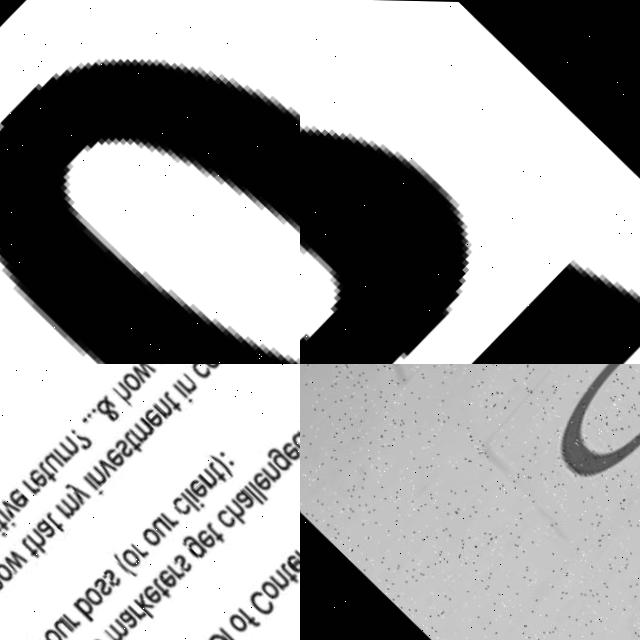0: (0, 0, 300, 364), (506, 364, 640, 523)
5: (300, 0, 640, 364)
A: (114, 604, 141, 630), (232, 484, 257, 510), (33, 515, 57, 539)
B: (72, 593, 100, 621)
C: (246, 585, 276, 616), (213, 504, 237, 529), (169, 492, 192, 516), (188, 364, 212, 378)
D: (288, 426, 300, 456)
E: (6, 485, 31, 510), (185, 474, 209, 499), (102, 444, 127, 468), (142, 404, 166, 429), (26, 464, 50, 489), (194, 526, 218, 550), (140, 580, 163, 604), (155, 564, 178, 588), (250, 467, 273, 491), (279, 436, 300, 461), (283, 549, 300, 574)
F: (234, 602, 262, 629)
G: (264, 442, 292, 471), (181, 532, 209, 559)
H: (224, 495, 252, 524), (24, 527, 53, 555), (111, 379, 139, 407)
I: (80, 472, 104, 496), (171, 380, 195, 403), (183, 484, 206, 506), (0, 504, 16, 527), (217, 624, 239, 640), (0, 514, 7, 537)
K: (131, 591, 160, 619)
L: (246, 480, 268, 500), (243, 482, 264, 502), (180, 490, 201, 510)
M: (128, 415, 156, 444), (55, 491, 82, 519), (102, 617, 129, 640)
N: (267, 565, 291, 589), (151, 394, 175, 418), (175, 369, 198, 393), (260, 459, 283, 482), (197, 465, 220, 488), (85, 463, 108, 486), (58, 434, 80, 456), (292, 540, 300, 563)
O: (139, 523, 164, 548), (225, 608, 250, 632), (257, 575, 282, 599), (80, 583, 104, 608), (118, 543, 142, 568), (120, 369, 143, 393), (203, 627, 234, 640), (40, 625, 63, 640), (0, 559, 14, 583), (197, 364, 222, 369)
R: (59, 608, 81, 628), (126, 600, 147, 620), (129, 537, 149, 557), (21, 475, 41, 494), (166, 560, 185, 579), (160, 508, 179, 527), (52, 444, 71, 462)
S: (98, 565, 123, 590), (111, 434, 136, 459), (170, 549, 193, 573), (91, 573, 114, 597), (88, 635, 111, 640)
T: (205, 458, 229, 482), (203, 520, 226, 543), (120, 429, 143, 452), (277, 559, 300, 581), (18, 537, 41, 559), (35, 460, 58, 482), (151, 576, 172, 597), (44, 511, 65, 532), (162, 389, 183, 410), (0, 509, 10, 531)
U: (148, 512, 173, 537), (50, 615, 73, 638), (42, 450, 65, 473)
V: (93, 454, 117, 478), (0, 495, 21, 518)
W: (0, 545, 27, 574), (129, 364, 157, 382)
Y: (63, 476, 91, 504), (22, 633, 50, 640)
